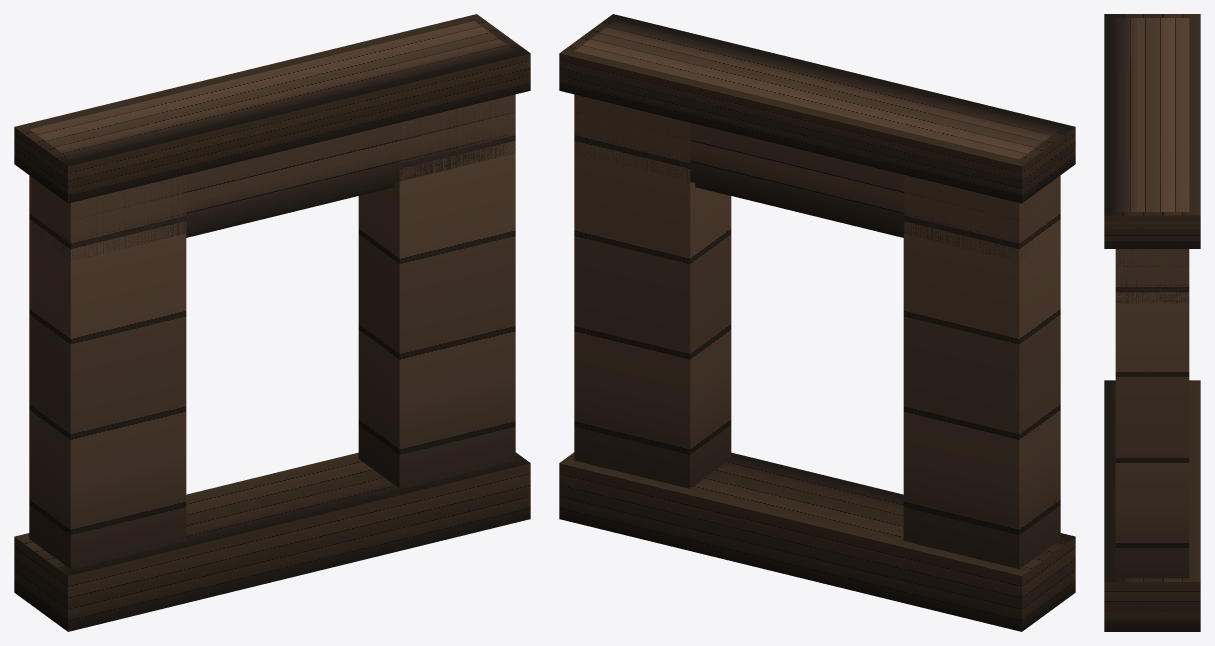
Rendered from wall_door_wood.gltf.
3 renders of one model, left to right at view 1: azimuth 30°, elevation 25°; view 2: azimuth 150°, elevation 25°; view 3: azimuth 270°, elevation 25°, orthographic. The views are drawn at different scales.
Visible parts, largest first — view 1: wall_door_wood; view 2: wall_door_wood; view 3: wall_door_wood.
Boxes of the visible parts, x1,y1,x2,y2 form: wall_door_wood: [14, 14, 530, 631]; wall_door_wood: [559, 14, 1075, 631]; wall_door_wood: [1104, 14, 1200, 631].
Size of the model in its own units: 1.04 by 1 by 0.21.
Materials: 1 (1 with a texture image).
